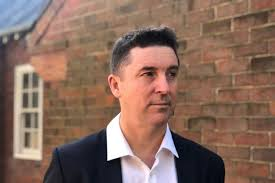white_male: (130, 37, 193, 136)
